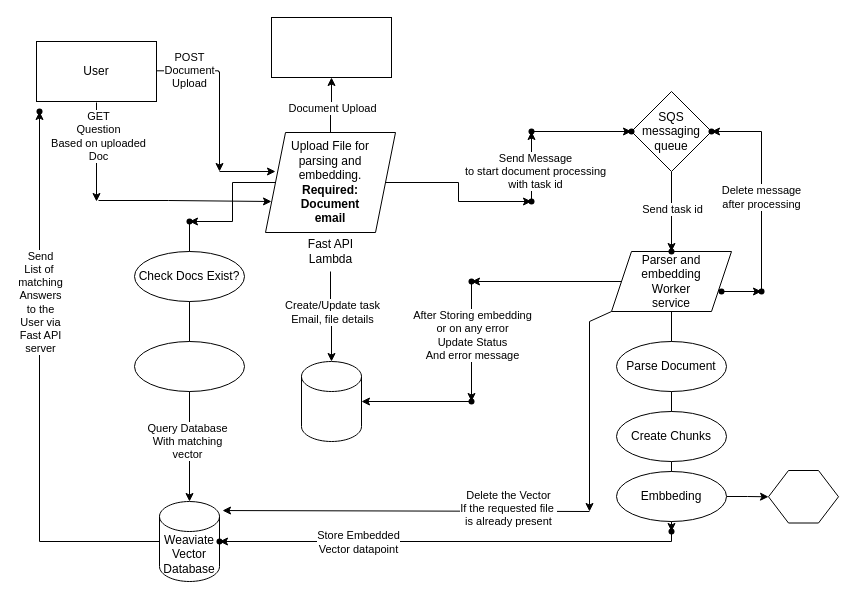
Some shapes in this 856 by 599 pixel diagram are drawn without their labels. The shapes that lost their labels are listed below. From the top down, each one's box as (x1, y1, x2, y2) in pixels, then its label:
(270, 16, 392, 78): S3 Bucket
(134, 340, 244, 392): Get question Embedding via OpenAI
(300, 360, 362, 442): Postgres Database
(768, 470, 838, 523): Open AI API
